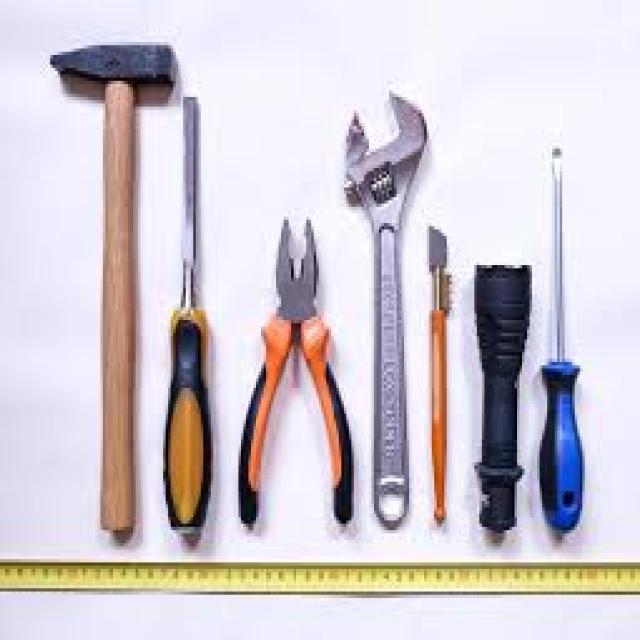hammer: (32, 8, 174, 436)
screw driver: (532, 125, 593, 525)
wrench: (328, 71, 432, 493)
